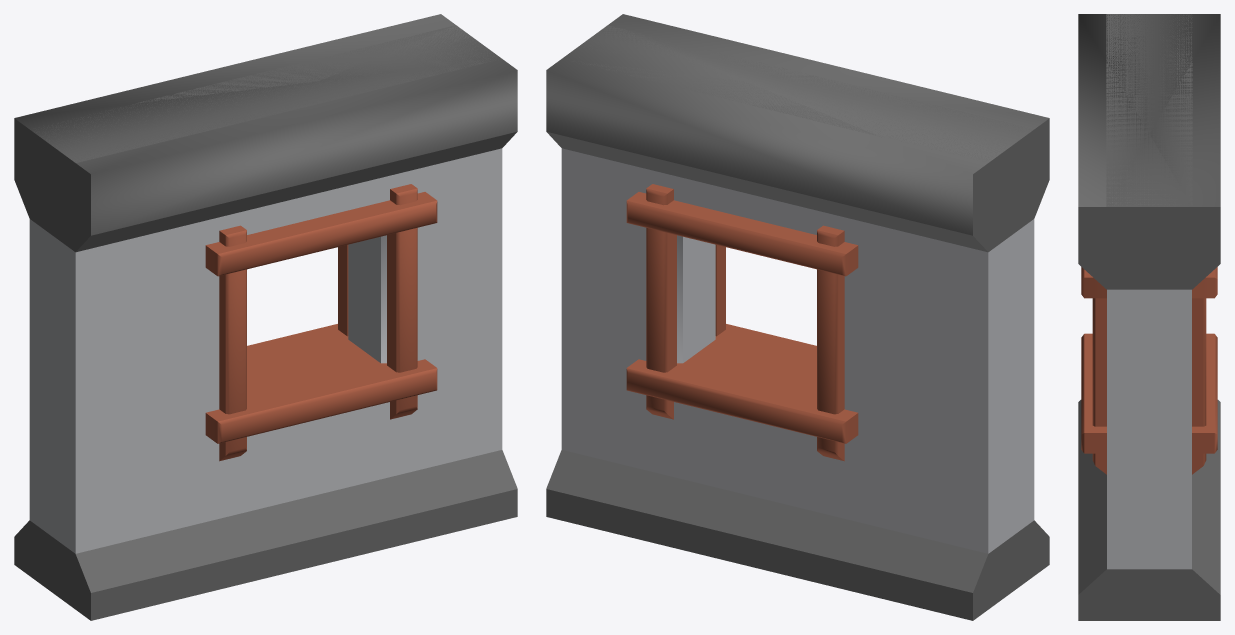
The model's file is Lp_Wall_Window.fbx.
3 renders of one model, left to right at view 1: azimuth 30°, elevation 25°; view 2: azimuth 150°, elevation 25°; view 3: azimuth 270°, elevation 25°, orthographic. The views are drawn at different scales.
Parts seen in each view (by area): view 1: Lp_Wall_Window; view 2: Lp_Wall_Window; view 3: Lp_Wall_Window.
Boxes of the visible parts, x1=… form: Lp_Wall_Window: x1=14, y1=14, x2=517, y2=620; Lp_Wall_Window: x1=546, y1=14, x2=1049, y2=620; Lp_Wall_Window: x1=1078, y1=14, x2=1220, y2=620.
Bounding box in the file's own units: 1.47 × 1.47 × 0.4584.
Materials: 1 (1 with a texture image).
